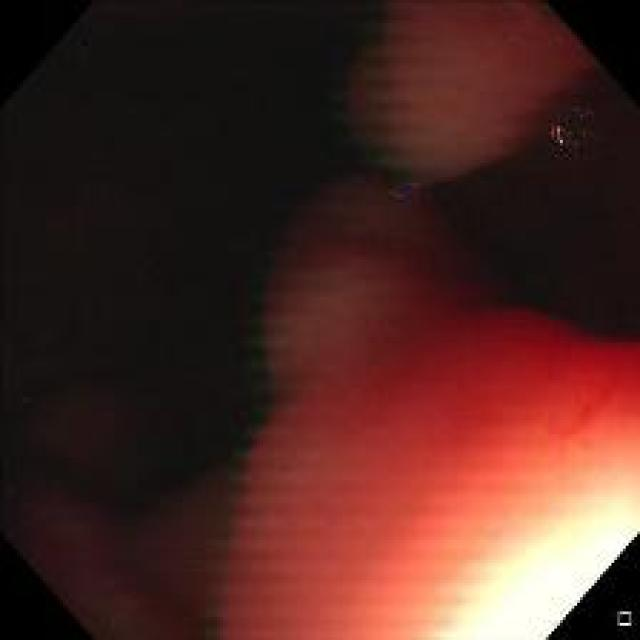color misalignment: (228, 204, 295, 616), (364, 11, 414, 148), (548, 98, 612, 154), (382, 166, 424, 204)
contrast: (15, 18, 352, 525), (439, 124, 630, 342)
saturation: (394, 415, 638, 639)
